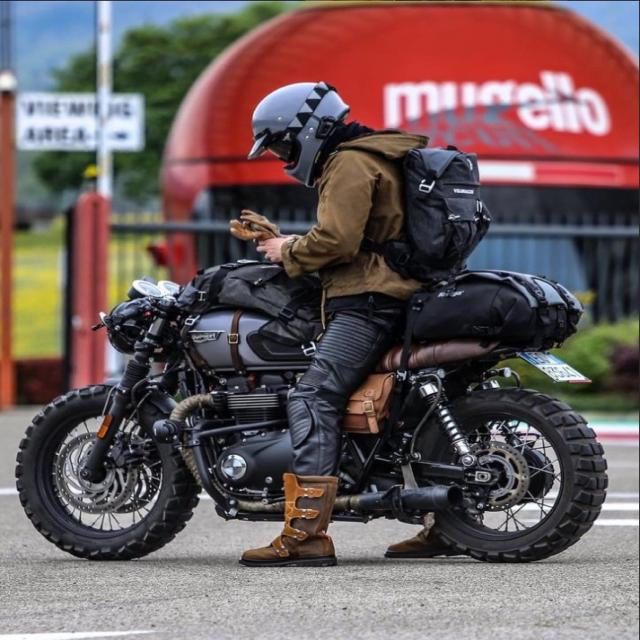helmet: (238, 75, 354, 192)
